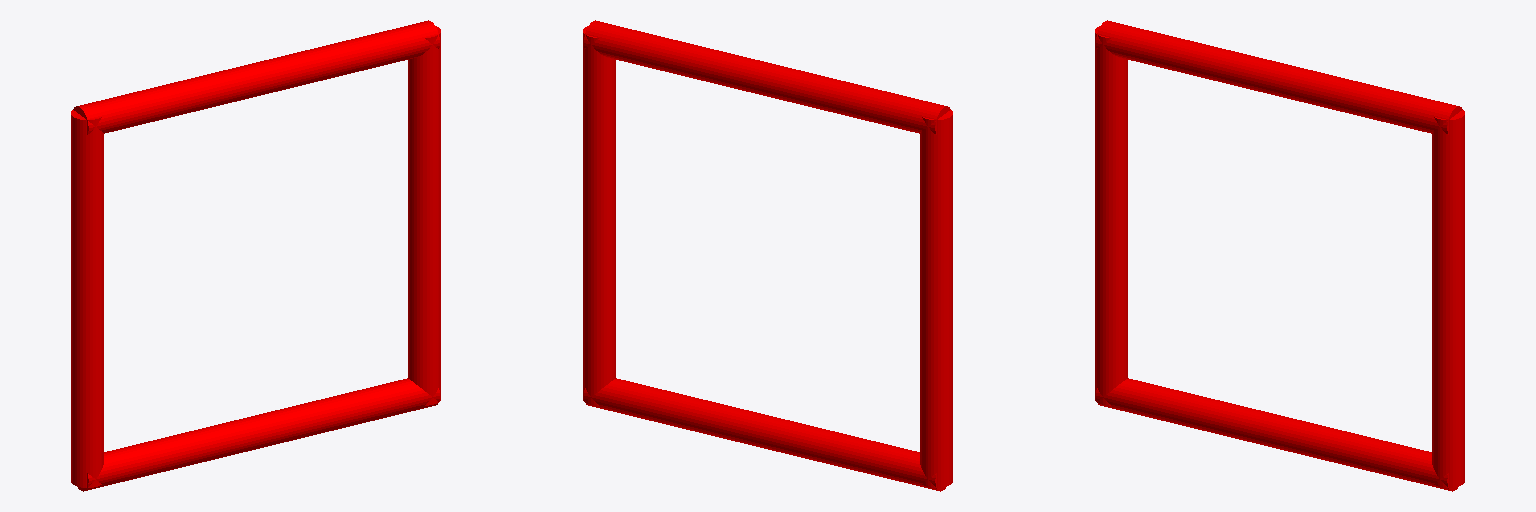
The robot description file, URDF, robot "frame":
<?xml version="1.0" ?>
<robot name="frame">

  <!-- Base Link Definition -->
  <link name="base_link">
    <inertial>
      <origin rpy="0 0 0" xyz="0 0 0"/>
      <mass value="1"/>
      <inertia ixx="1" ixy="0" ixz="0" iyy="1" iyz="0" izz="1"/>
    </inertial>
  </link>

  <!-- Bar Link Definitions -->
  <link name="bar1">
    <inertial>
      <origin rpy="0 0 0" xyz="0 0 0"/>
      <mass value="1"/>
      <inertia ixx="1" ixy="0" ixz="0" iyy="1" iyz="0" izz="1"/>
    </inertial>
    <visual>
      <geometry>
        <cylinder length="0.73" radius="0.03"/>
      </geometry>
      <material name="red">
        <color rgba="1 0 0 1"/>
      </material>
    </visual>
    <collision>
      <geometry>
        <cylinder length="0.73" radius="0.03"/>
      </geometry>
    </collision>
  </link>

    <!-- Bar Link Definitions -->
  <link name="bar2">
    <inertial>
      <origin rpy="0 0 0" xyz="0 0 0"/>
      <mass value="1"/>
      <inertia ixx="1" ixy="0" ixz="0" iyy="1" iyz="0" izz="1"/>
    </inertial>
    <visual>
      <geometry>
        <cylinder length="0.73" radius="0.03"/>
      </geometry>
      <material name="red">
        <color rgba="1 0 0 1"/>
      </material>
    </visual>
    <collision>
      <geometry>
        <cylinder length="0.73" radius="0.03"/>
      </geometry>
    </collision>
  </link>


  <link name="bar3">
    <inertial>
      <origin rpy="0 0 0" xyz="0 0 0"/>
      <mass value="1"/>
      <inertia ixx="1" ixy="0" ixz="0" iyy="1" iyz="0" izz="1"/>
    </inertial>
    <visual>
      <geometry>
        <cylinder length="0.73" radius="0.03"/>
      </geometry>
      <material name="red">
        <color rgba="1 0 0 1"/>
      </material>
    </visual>
    <collision>
      <geometry>
        <cylinder length="0.73" radius="0.03"/>
      </geometry>
    </collision>
  </link>


  <link name="bar4">
    <inertial>
      <origin rpy="0 0 0" xyz="0 0 0"/>
      <mass value="1"/>
      <inertia ixx="1" ixy="0" ixz="0" iyy="1" iyz="0" izz="1"/>
    </inertial>
    <visual>
      <geometry>
        <cylinder length="0.73" radius="0.03"/>
      </geometry>
      <material name="red">
        <color rgba="1 0 0 1"/>
      </material>
    </visual>
    <collision>
      <geometry>
        <cylinder length="0.73" radius="0.03"/>
      </geometry>
    </collision>
  </link>

  <!-- Joint Definitions -->
  <joint name="fixed1" type="fixed">
    <parent link="base_link"/>
    <child link="bar1"/>
    <origin xyz="-0.35 0 0" rpy="0 0 0"/> <!-- Rotate around y-axis -->
  </joint>

  <!-- Joint Definitions -->
  <joint name="fixed2" type="fixed">
    <parent link="base_link"/>
    <child link="bar2"/>
    <origin xyz="0.35 0 0" rpy="0 0 0"/> <!-- Rotate around y-axis -->
  </joint>

  <joint name="fixed3" type="fixed">
    <parent link="base_link"/>
    <child link="bar3"/>
    <origin xyz="0 0 -0.35" rpy="0 1.5708 0"/> <!-- Rotate around y-axis -->
  </joint>

  <joint name="fixed4" type="fixed">
    <parent link="base_link"/>
    <child link="bar4"/>
    <origin xyz="0 0 0.35" rpy="0 1.5708 0"/> <!-- Rotate around y-axis -->
  </joint>

</robot>

--- What the picture shows (computed from the rendered views, not written in the file) ---
The picture shows the robot from 3 angles, left to right: view 1: azimuth 30°, elevation 25°; view 2: azimuth 150°, elevation 25°; view 3: azimuth 330°, elevation 25°; orthographic projection.
Model frame with 5 links and 4 joints (4 fixed), rooted at base_link, posed every joint at zero.
Links seen in each view (by area): view 1: bar1, bar4, bar2, bar3; view 2: bar1, bar4, bar2, bar3; view 3: bar2, bar4, bar1, bar3.
Link boxes in pixels (x1=…): bar1: x1=71, y1=110, x2=103, y2=487; bar4: x1=73, y1=20, x2=439, y2=134; bar2: x1=408, y1=26, x2=440, y2=405; bar3: x1=78, y1=378, x2=439, y2=491; bar1: x1=920, y1=110, x2=952, y2=487; bar4: x1=584, y1=20, x2=950, y2=134; bar2: x1=583, y1=26, x2=615, y2=405; bar3: x1=584, y1=378, x2=945, y2=491; bar2: x1=1432, y1=110, x2=1464, y2=487; bar4: x1=1096, y1=20, x2=1462, y2=134; bar1: x1=1095, y1=26, x2=1127, y2=405; bar3: x1=1096, y1=378, x2=1457, y2=491.
Size in the robot's own frame: 0.76 by 0.06 by 0.76 metres.
Geometry: primitives only (box / cylinder / sphere), no mesh files.